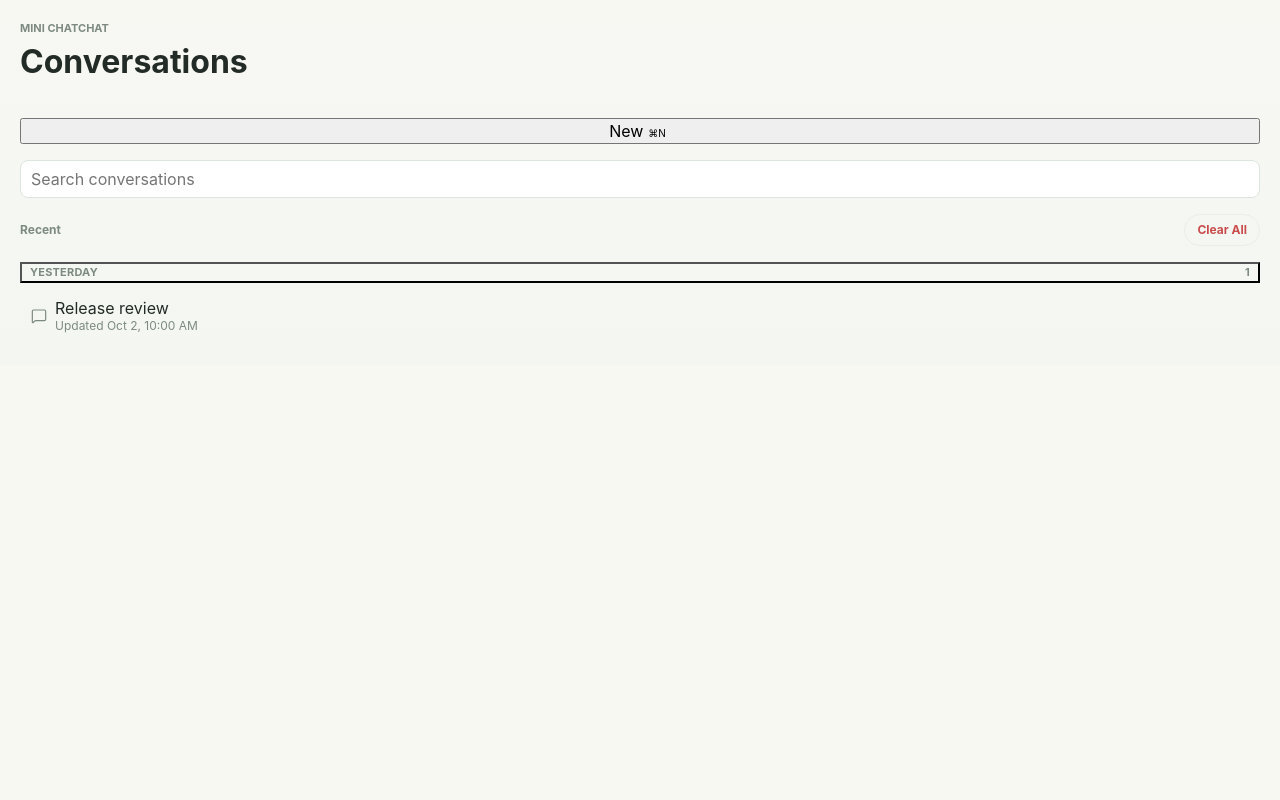
Test case: conversation destructive actions › confirms clear-all, deletes persisted conversations, and refreshes the list
The width and height of the screenshot is (1280, 800).
Expected: the text "Release review" is shown, x1=55 y1=298 x2=169 y2=318
What coordinates should you click on to do the following:
click the button "Clear All"
I would click on:
 (1222, 230)
Its box is x1=1184 y1=214 x2=1260 y2=246.
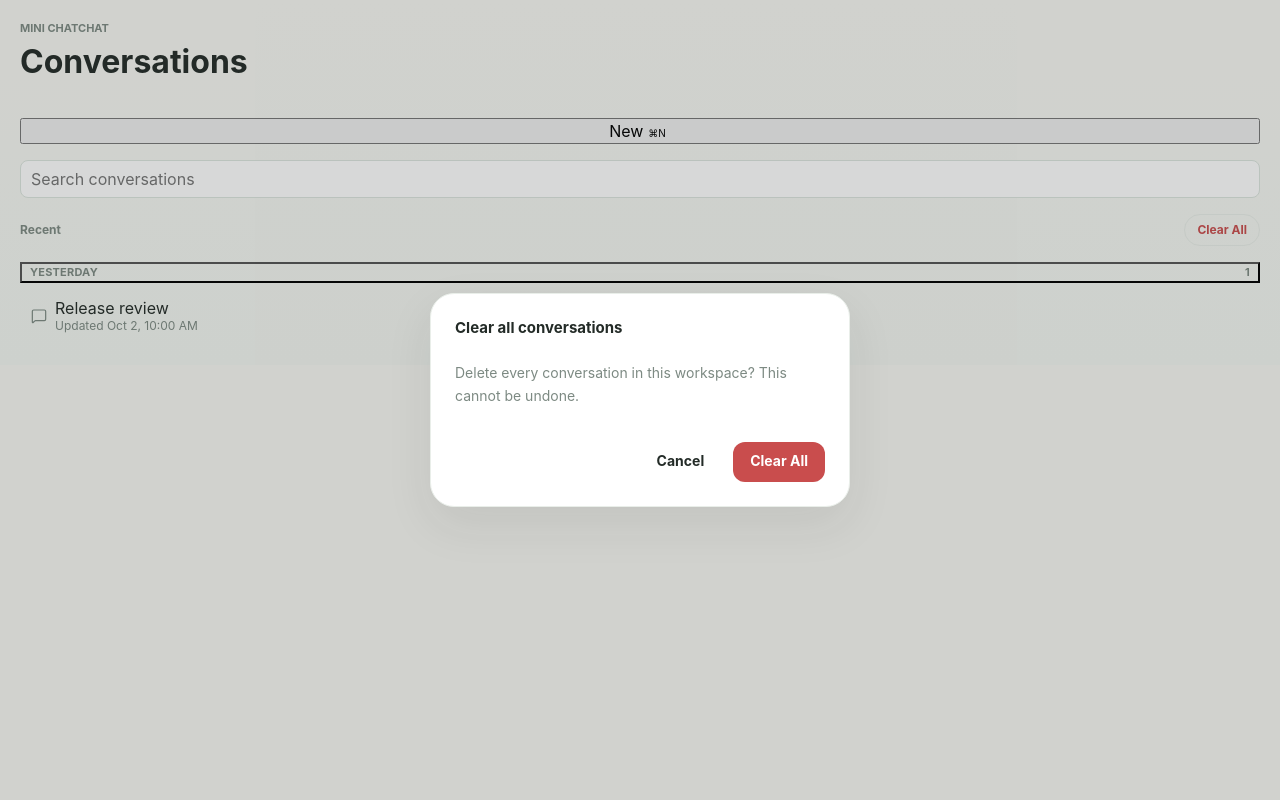
What coordinates should you click on to do the following:
click the button "Clear All"
I would click on:
 (779, 462)
Its box is x1=733 y1=442 x2=825 y2=482.
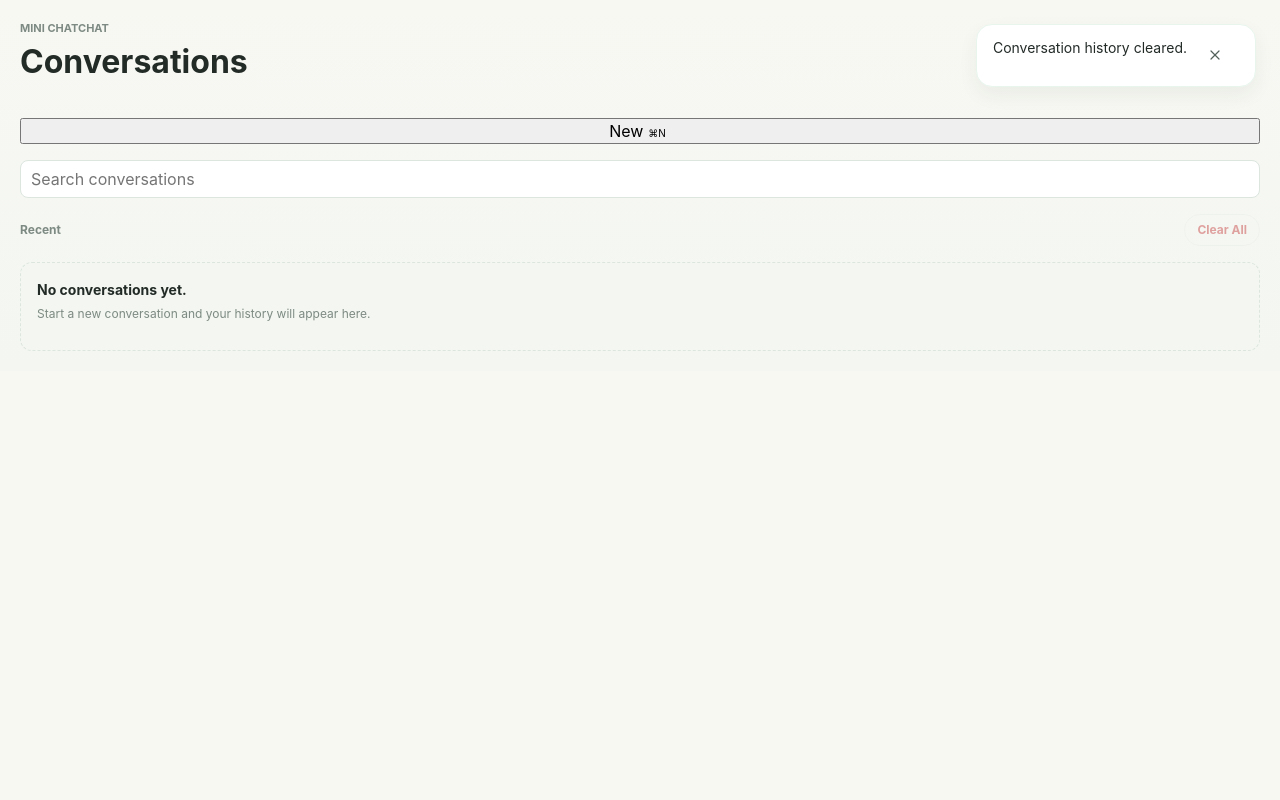
Now the button "Release review" is gone
